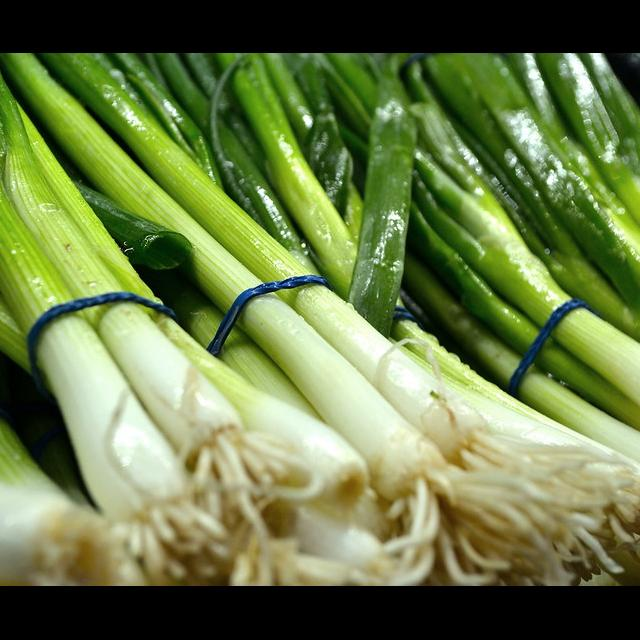green_onion: (281, 286, 640, 584), (238, 296, 548, 529), (82, 302, 316, 584), (425, 54, 640, 341), (32, 314, 230, 584), (78, 64, 306, 281), (152, 317, 370, 499), (155, 54, 312, 268), (71, 146, 258, 310), (234, 56, 358, 297), (416, 150, 570, 325), (0, 78, 122, 297), (21, 112, 156, 300), (348, 58, 416, 336), (0, 122, 72, 331), (74, 182, 190, 270), (554, 310, 640, 406), (396, 323, 488, 387), (212, 220, 296, 278), (346, 304, 394, 359)
